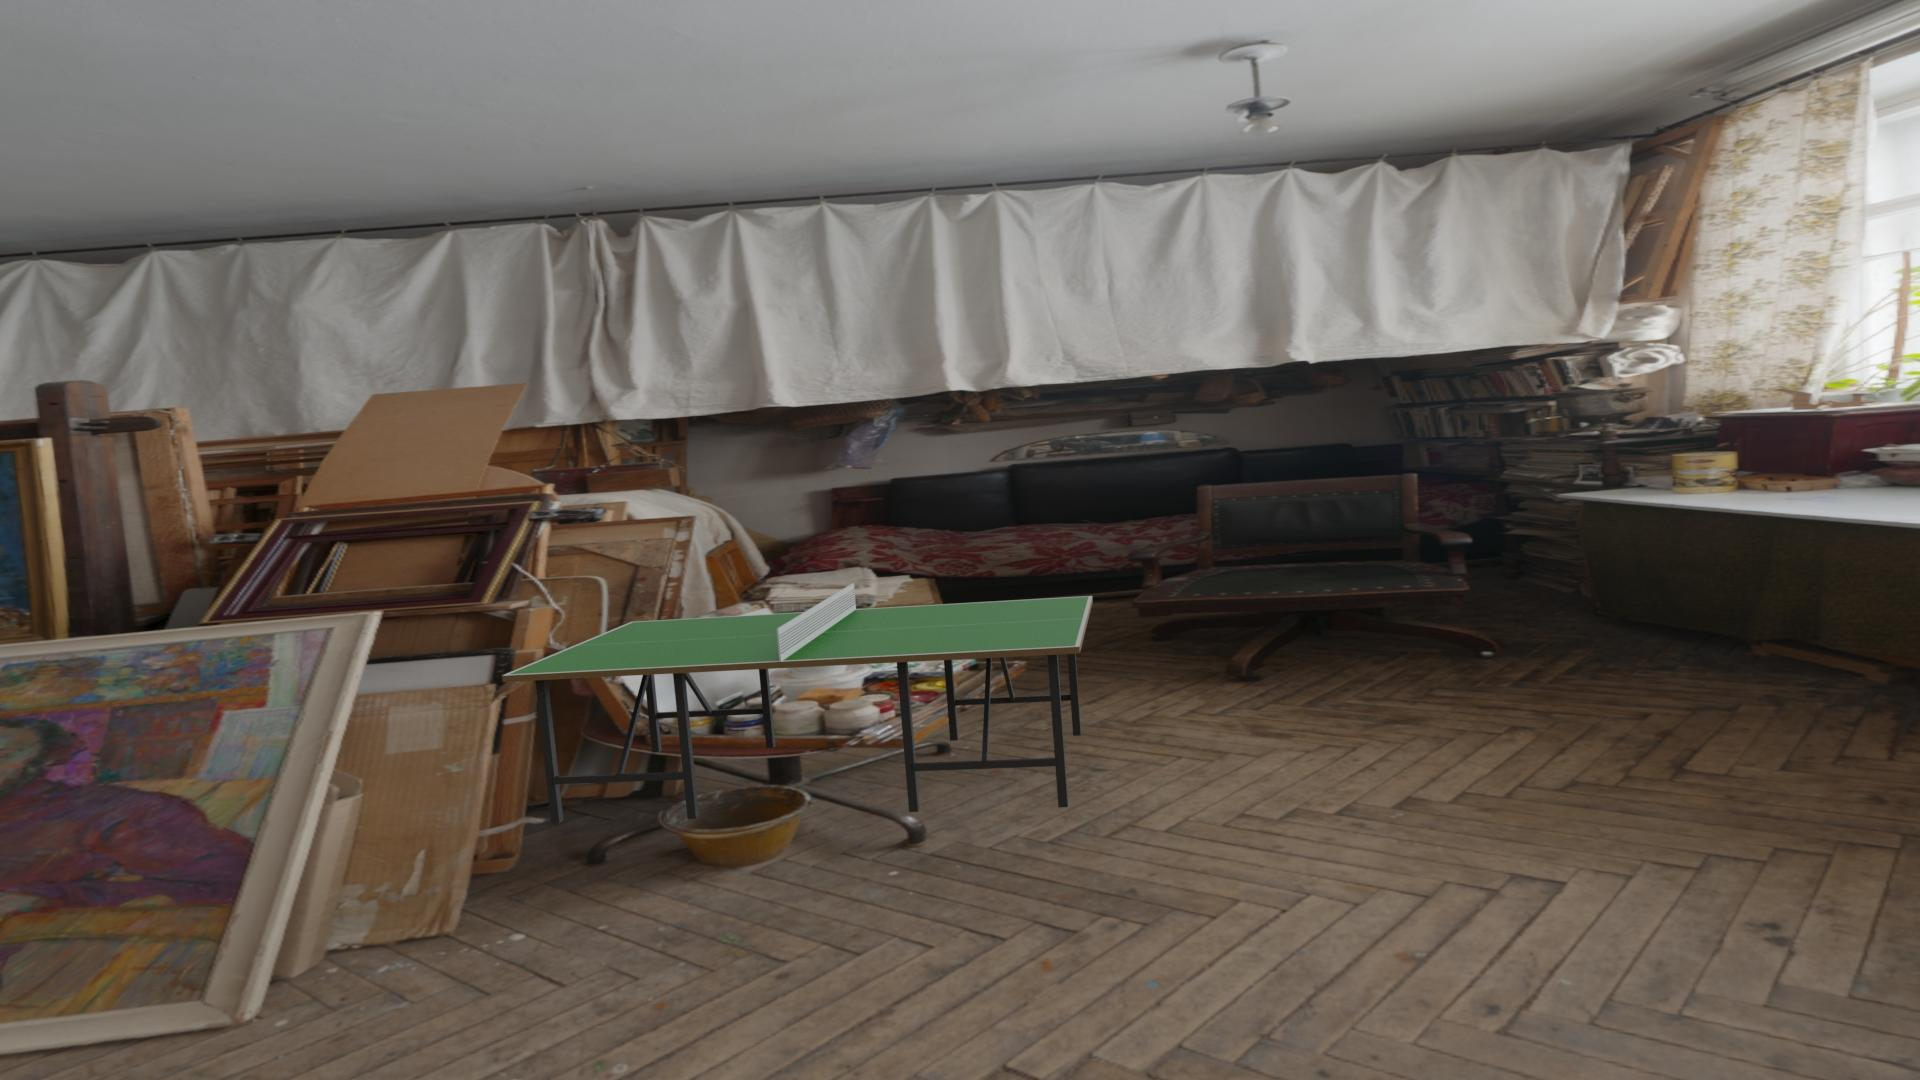table: (508, 596, 1089, 675)
